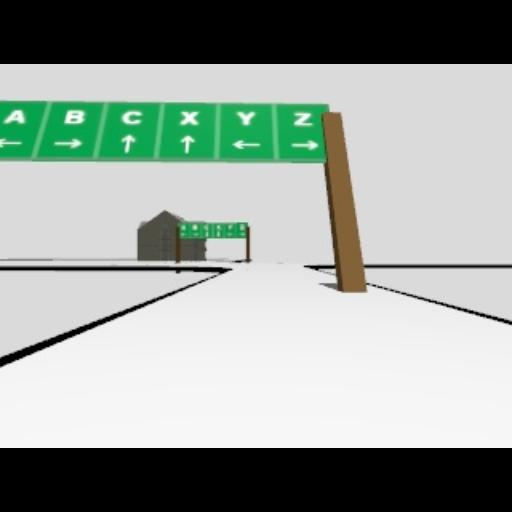A: (2, 108, 30, 126)
B: (62, 106, 88, 126)
C: (122, 109, 146, 127)
Left: (230, 138, 262, 152)
Right: (53, 137, 85, 151), (290, 138, 322, 152)
Straight: (178, 132, 198, 158), (118, 134, 136, 154)
X: (178, 108, 200, 128)
Y: (232, 109, 258, 129)
Z: (289, 108, 315, 130)
